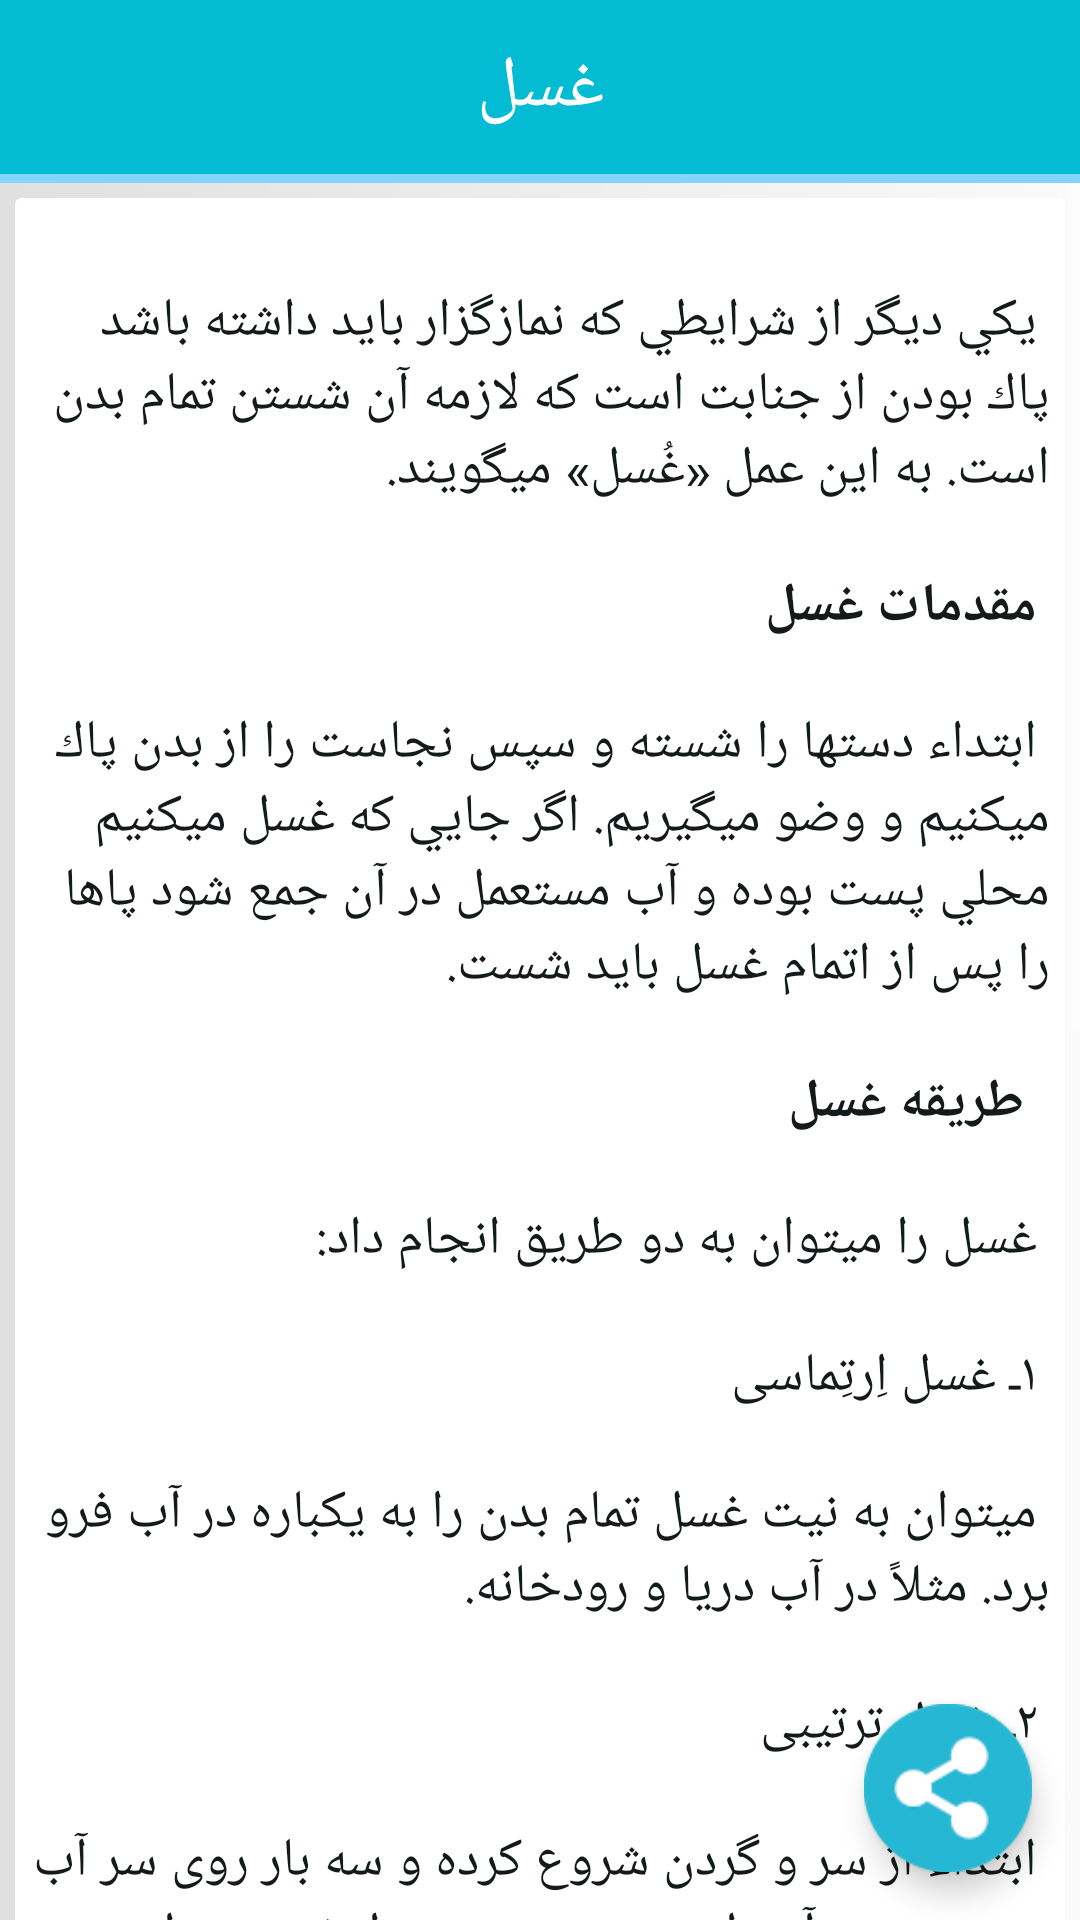

Icons on this 1080 x 1920 Android screen, each with the point to tap as (x=x, y=y):
share: (x=948, y=1788)
